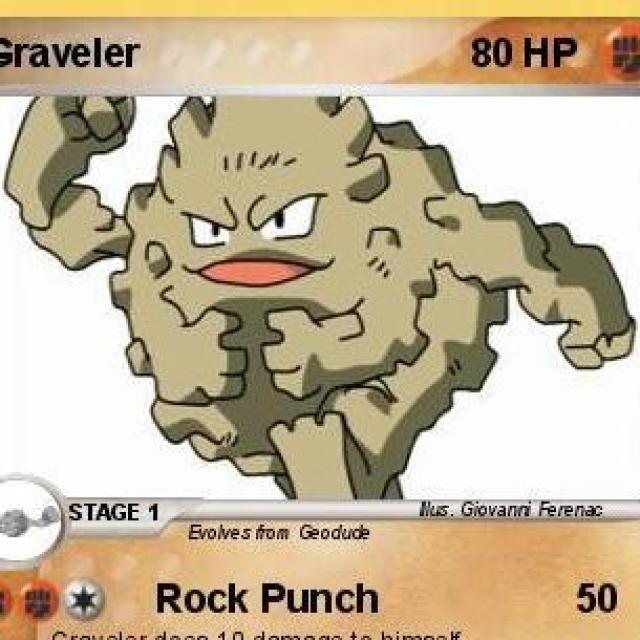Graveler: (0, 94, 640, 496)
